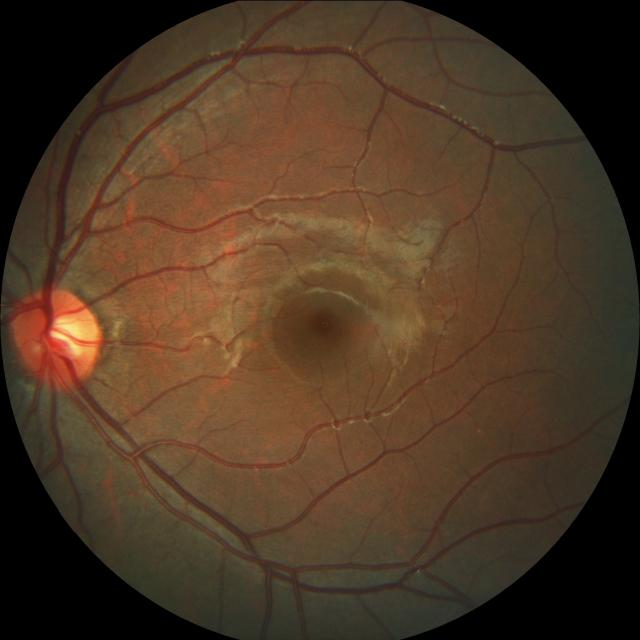OC: (42, 312, 89, 360)
OD: (12, 284, 103, 385)
